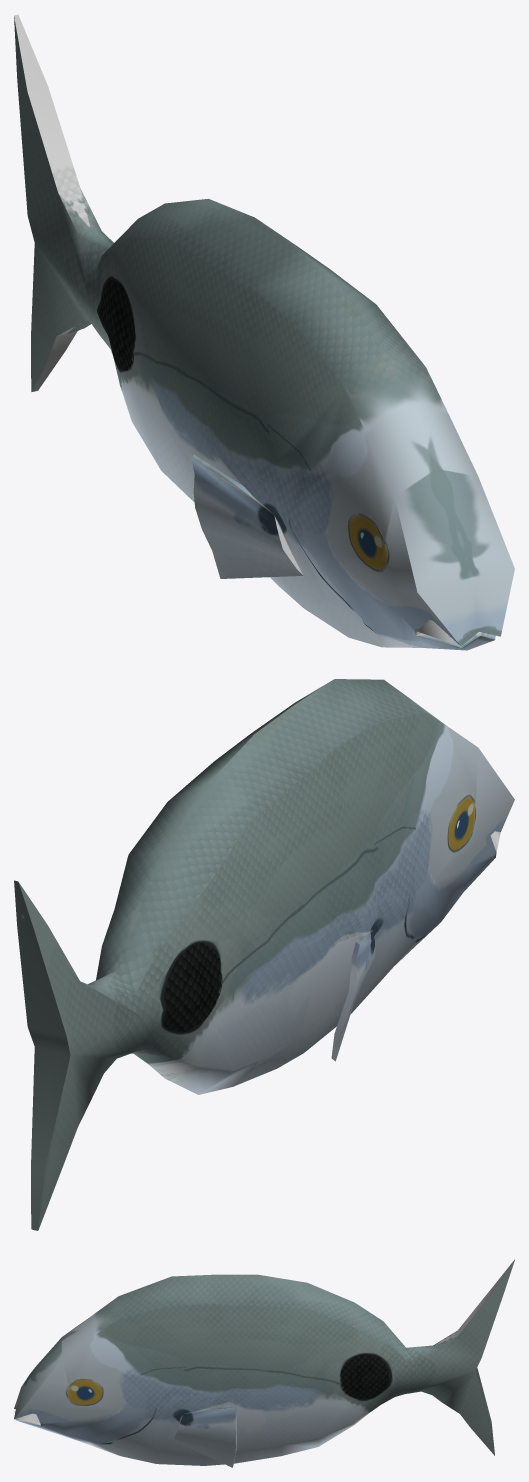
Rendered from Diplodus_Sargus.fbx.
3 views of the same model, one above another, from view 1: azimuth 30°, elevation 25°; view 2: azimuth 150°, elevation 25°; view 3: azimuth 270°, elevation 25° (orthographic). The views are drawn at different scales.
Parts seen in each view (by area): view 1: Sargo; view 2: Sargo; view 3: Sargo.
Part boxes in pixels (<box>): Sargo: <box>14,14,514,650</box>; Sargo: <box>14,679,514,1230</box>; Sargo: <box>14,1259,514,1467</box>.
Bounding box in the file's own units: 62.17 × 135 × 297.
1 material, 1 textured.
